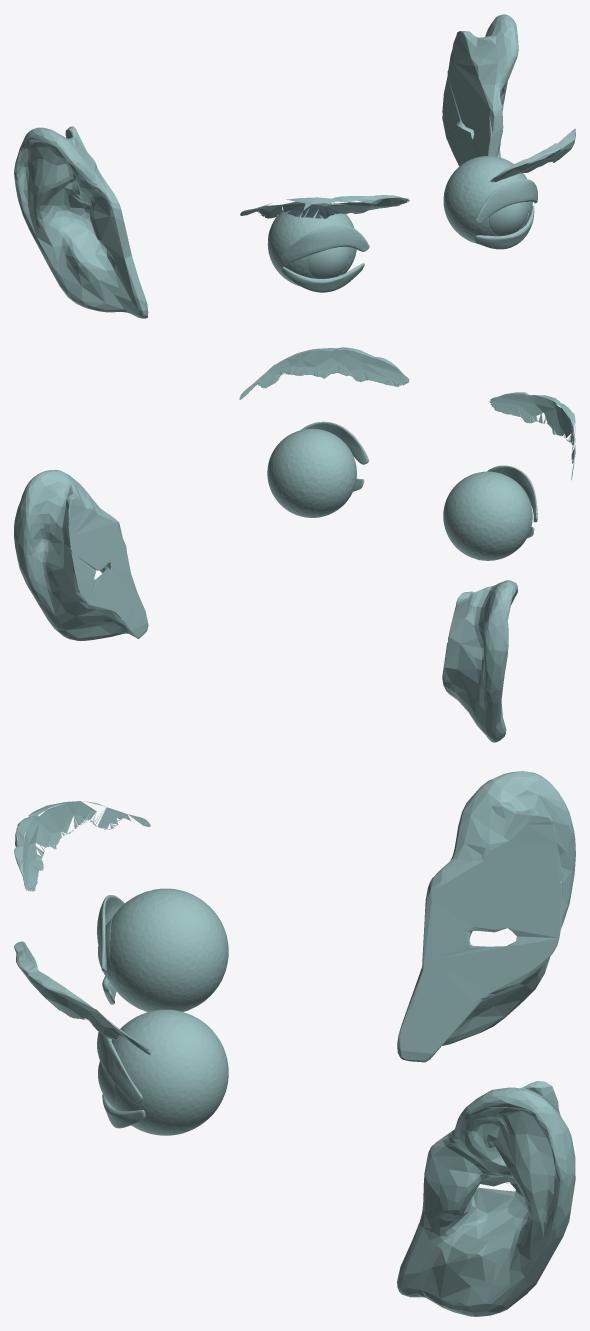
File: sensory-00.glb
3 renders of one model, top to bottom at view 1: azimuth 30°, elevation 25°; view 2: azimuth 150°, elevation 25°; view 3: azimuth 270°, elevation 25°, orthographic. The views are drawn at different scales.
Parts seen in each view (by area): view 1: FJ2811, FJ1317, FJ2812, FJ1368, FJ1375, FJ1324, FJ1340, FJ1289, FJ1379, FJ1328; view 2: FJ2811, FJ1368, FJ1317, FJ2812, FJ1324, FJ1375; view 3: FJ2811, FJ1368, FJ1317, FJ2812, FJ1324, FJ1375.
Boxes of the visible parts, x1=… form: FJ2811: x1=14, y1=14, x2=518, y2=318; FJ1317: x1=443, y1=156, x2=532, y2=244; FJ2812: x1=240, y1=128, x2=575, y2=218; FJ1368: x1=267, y1=202, x2=356, y2=286; FJ1375: x1=280, y1=225, x2=369, y2=264; FJ1324: x1=475, y1=179, x2=537, y2=223; FJ1340: x1=307, y1=247, x2=350, y2=278; FJ1289: x1=489, y1=202, x2=528, y2=236; FJ1379: x1=282, y1=263, x2=364, y2=292; FJ1328: x1=474, y1=205, x2=534, y2=249; FJ2811: x1=14, y1=469, x2=517, y2=742; FJ1368: x1=443, y1=471, x2=532, y2=560; FJ1317: x1=267, y1=428, x2=356, y2=517; FJ2812: x1=239, y1=347, x2=575, y2=479; FJ1324: x1=300, y1=421, x2=369, y2=464; FJ1375: x1=487, y1=465, x2=537, y2=522; FJ2811: x1=397, y1=771, x2=575, y2=1316; FJ1368: x1=110, y1=888, x2=228, y2=1011; FJ1317: x1=111, y1=1009, x2=228, y2=1135; FJ2812: x1=14, y1=801, x2=150, y2=1054; FJ1324: x1=97, y1=1032, x2=142, y2=1104; FJ1375: x1=97, y1=895, x2=124, y2=971.
Size of the model in its own units: 0.1675 by 0.0661 by 0.1169.
